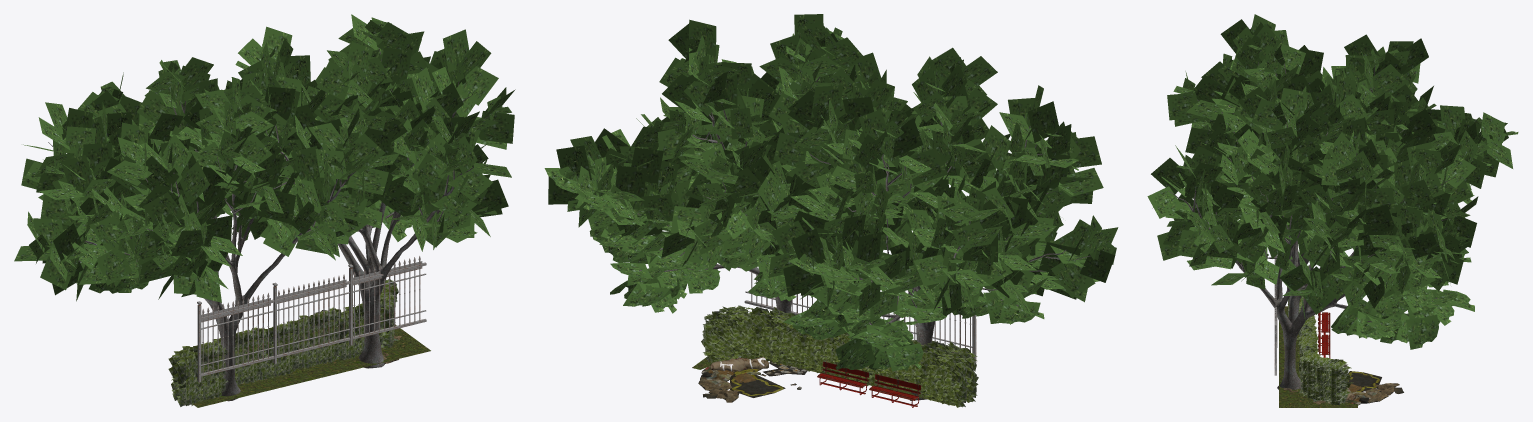
Rendered from sm301_01_201room_05.fbx.
The picture shows the model from 3 angles, left to right: view 1: azimuth 30°, elevation 25°; view 2: azimuth 150°, elevation 25°; view 3: azimuth 270°, elevation 25°; orthographic projection. The views are drawn at different scales.
Parts seen in each view (by area): view 1: 0052_sm10006LargeTree01A00ms_1_Group_2_Sub_1__sm10_006__f997, 0053_sm10006LargeTree01A00ms_1_Group_2_Sub_1__sm10_006__577d, 0094_sm10014BoxWood01A00ms_1_Group_0_Sub_1__sm10_014_Bo_2409, 0040_sm25066townFence01A00ms_1_Group_0_Sub_1__st1_townP_4d67, 0049_sm10006LargeTree01A00ms_1_Group_0_Sub_1__sm10_006__7f77, 0011_st42010Terrain00ms_1_Group_0_Sub_12__st1_GroundWild01_M, 0048_sm10006LargeTree01A00ms_1_Group_0_Sub_1__sm10_006__f92f; view 2: 0052_sm10006LargeTree01A00ms_1_Group_2_Sub_1__sm10_006__f997, 0053_sm10006LargeTree01A00ms_1_Group_2_Sub_1__sm10_006__577d, 0094_sm10014BoxWood01A00ms_1_Group_0_Sub_1__sm10_014_Bo_2409, 0047_sm25011garbage01A00ms_1_Group_0_Sub_1__sm25_011_ga_d817, 0045_sm30112bench01A00ms_1_Group_0_Sub_1__sm30_112_benc_b312, 0040_sm25066townFence01A00ms_1_Group_0_Sub_1__st1_townP_4d67, 0048_sm10006LargeTree01A00ms_1_Group_0_Sub_1__sm10_006__f92f, 0042_sm26032humanBag01B00ms_1_Group_0_Sub_1__sm26_032_h_0dd2, 0050_sm10006LargeTree01A00ms_1_Group_1_Sub_1__sm10_006__ad8f; view 3: 0053_sm10006LargeTree01A00ms_1_Group_2_Sub_1__sm10_006__577d, 0052_sm10006LargeTree01A00ms_1_Group_2_Sub_1__sm10_006__f997, 0094_sm10014BoxWood01A00ms_1_Group_0_Sub_1__sm10_014_Bo_2409, 0049_sm10006LargeTree01A00ms_1_Group_0_Sub_1__sm10_006__7f77, 0047_sm25011garbage01A00ms_1_Group_0_Sub_1__sm25_011_ga_d817, 0011_st42010Terrain00ms_1_Group_0_Sub_12__st1_GroundWild01_M, 0045_sm30112bench01A00ms_1_Group_0_Sub_1__sm30_112_benc_b312, 0051_sm10006LargeTree01A00ms_1_Group_1_Sub_1__sm10_006__9968.
Boxes of the visible parts, <box> form: 0052_sm10006LargeTree01A00ms_1_Group_2_Sub_1__sm10_006__f997: <box>14,42,399,302</box>; 0053_sm10006LargeTree01A00ms_1_Group_2_Sub_1__sm10_006__577d: <box>89,14,515,285</box>; 0094_sm10014BoxWood01A00ms_1_Group_0_Sub_1__sm10_014_Bo_2409: <box>168,279,398,406</box>; 0040_sm25066townFence01A00ms_1_Group_0_Sub_1__st1_townP_4d67: <box>197,256,426,382</box>; 0049_sm10006LargeTree01A00ms_1_Group_0_Sub_1__sm10_006__7f77: <box>266,90,482,368</box>; 0011_st42010Terrain00ms_1_Group_0_Sub_12__st1_GroundWild01_M: <box>193,324,430,407</box>; 0048_sm10006LargeTree01A00ms_1_Group_0_Sub_1__sm10_006__f92f: <box>48,101,356,401</box>; 0052_sm10006LargeTree01A00ms_1_Group_2_Sub_1__sm10_006__f997: <box>771,47,1118,371</box>; 0053_sm10006LargeTree01A00ms_1_Group_2_Sub_1__sm10_006__577d: <box>544,14,1063,369</box>; 0094_sm10014BoxWood01A00ms_1_Group_0_Sub_1__sm10_014_Bo_2409: <box>701,305,978,407</box>; 0047_sm25011garbage01A00ms_1_Group_0_Sub_1__sm25_011_ga_d817: <box>698,355,807,402</box>; 0045_sm30112bench01A00ms_1_Group_0_Sub_1__sm30_112_benc_b312: <box>817,361,921,407</box>; 0040_sm25066townFence01A00ms_1_Group_0_Sub_1__st1_townP_4d67: <box>744,267,976,362</box>; 0048_sm10006LargeTree01A00ms_1_Group_0_Sub_1__sm10_006__f92f: <box>836,142,1066,400</box>; 0042_sm26032humanBag01B00ms_1_Group_0_Sub_1__sm26_032_h_0dd2: <box>710,357,768,372</box>; 0050_sm10006LargeTree01A00ms_1_Group_1_Sub_1__sm10_006__ad8f: <box>810,121,1090,353</box>; 0053_sm10006LargeTree01A00ms_1_Group_2_Sub_1__sm10_006__577d: <box>1147,74,1486,349</box>; 0052_sm10006LargeTree01A00ms_1_Group_2_Sub_1__sm10_006__f997: <box>1167,14,1518,222</box>; 0094_sm10014BoxWood01A00ms_1_Group_0_Sub_1__sm10_014_Bo_2409: <box>1287,265,1353,404</box>; 0049_sm10006LargeTree01A00ms_1_Group_0_Sub_1__sm10_006__7f77: <box>1168,176,1456,389</box>; 0047_sm25011garbage01A00ms_1_Group_0_Sub_1__sm25_011_ga_d817: <box>1283,364,1403,405</box>; 0011_st42010Terrain00ms_1_Group_0_Sub_12__st1_GroundWild01_M: <box>1279,306,1357,407</box>; 0045_sm30112bench01A00ms_1_Group_0_Sub_1__sm30_112_benc_b312: <box>1318,312,1330,358</box>; 0051_sm10006LargeTree01A00ms_1_Group_1_Sub_1__sm10_006__9968: <box>1189,106,1447,324</box>.
Bounding box in the file's own units: 19.49 × 12.67 × 14.28.
